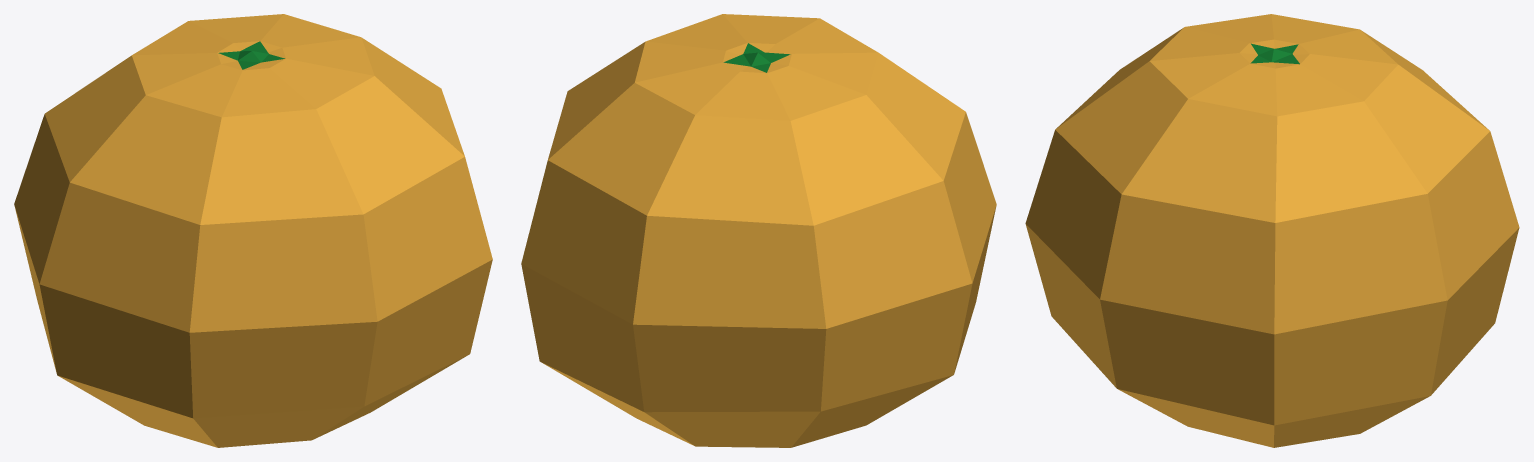
Rendered from orange.fbx.
The picture shows the model from 3 angles, left to right: view 1: azimuth 30°, elevation 25°; view 2: azimuth 150°, elevation 25°; view 3: azimuth 270°, elevation 25°; orthographic projection.
Visible parts, largest first — view 1: orange; view 2: orange; view 3: orange.
Part boxes in pixels (x1,y1,x2,y2): orange: (14,14,492,447); orange: (521,14,996,447); orange: (1025,14,1519,447).
Size of the model in its own units: 39.59 by 32.7 by 40.29.
Materials: 1 (1 with a texture image).
